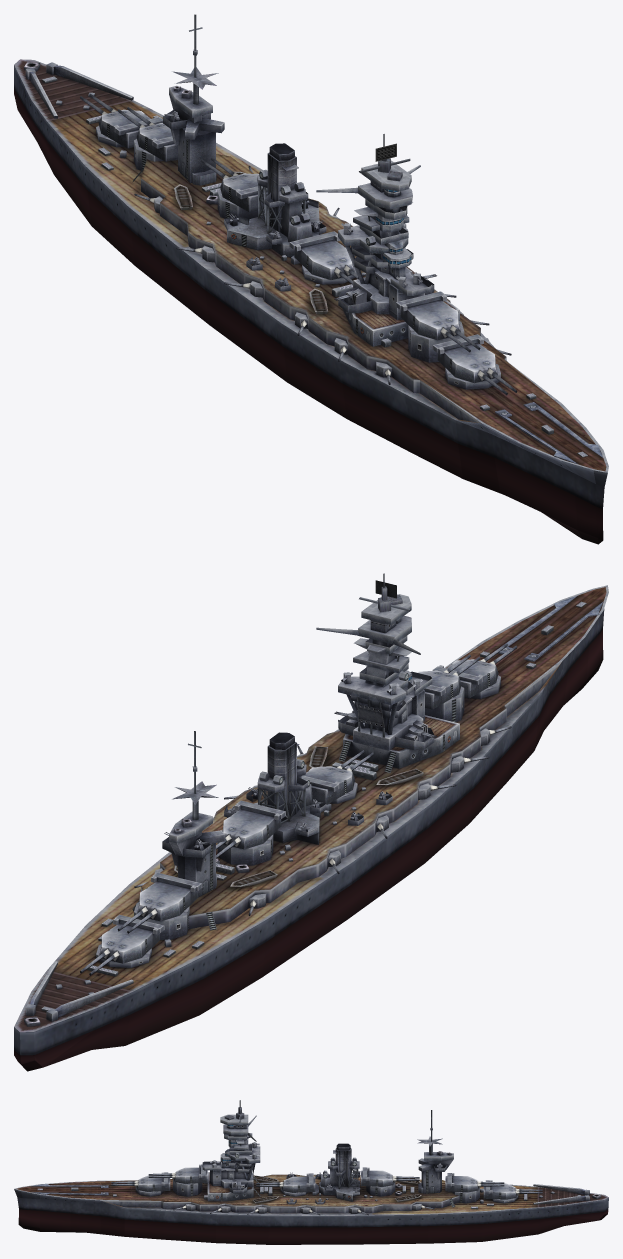
File: Fuso.fbx
3 renders of one model, top to bottom at view 1: azimuth 30°, elevation 25°; view 2: azimuth 150°, elevation 25°; view 3: azimuth 270°, elevation 25°, orthographic. The views are drawn at different scales.
Visible parts, largest first — view 1: Body, M_Cannon02, M_Cannon03, M_Cannon01, M_Cannon06, M_Cannon04, M_Cannon05; view 2: Body, M_Cannon05, M_Cannon04, M_Cannon06, M_Cannon03, M_Cannon01, M_Cannon02; view 3: Body, M_Cannon04, M_Cannon03, M_Cannon05, M_Cannon02, M_Cannon01, M_Cannon06.
Part boxes in pixels (bbox=[...]): Body: bbox=[14, 14, 608, 544]; M_Cannon02: bbox=[395, 291, 460, 340]; M_Cannon03: bbox=[289, 231, 354, 279]; M_Cannon01: bbox=[432, 334, 497, 383]; M_Cannon06: bbox=[98, 109, 162, 148]; M_Cannon04: bbox=[220, 173, 267, 212]; M_Cannon05: bbox=[136, 123, 177, 161]; Body: bbox=[14, 573, 608, 1071]; M_Cannon05: bbox=[137, 872, 202, 921]; M_Cannon04: bbox=[222, 800, 285, 849]; M_Cannon06: bbox=[99, 914, 164, 963]; M_Cannon03: bbox=[301, 766, 354, 804]; M_Cannon01: bbox=[432, 659, 498, 698]; M_Cannon02: bbox=[418, 670, 461, 709]; Body: bbox=[14, 1100, 608, 1244]; M_Cannon04: bbox=[360, 1167, 393, 1186]; M_Cannon03: bbox=[282, 1173, 315, 1192]; M_Cannon05: bbox=[445, 1173, 478, 1192]; M_Cannon02: bbox=[174, 1164, 207, 1183]; M_Cannon01: bbox=[137, 1172, 170, 1191]; M_Cannon06: bbox=[483, 1180, 516, 1199].
Size of the model in its own units: 32.49 by 49.62 by 202.
1 material, 1 textured.
